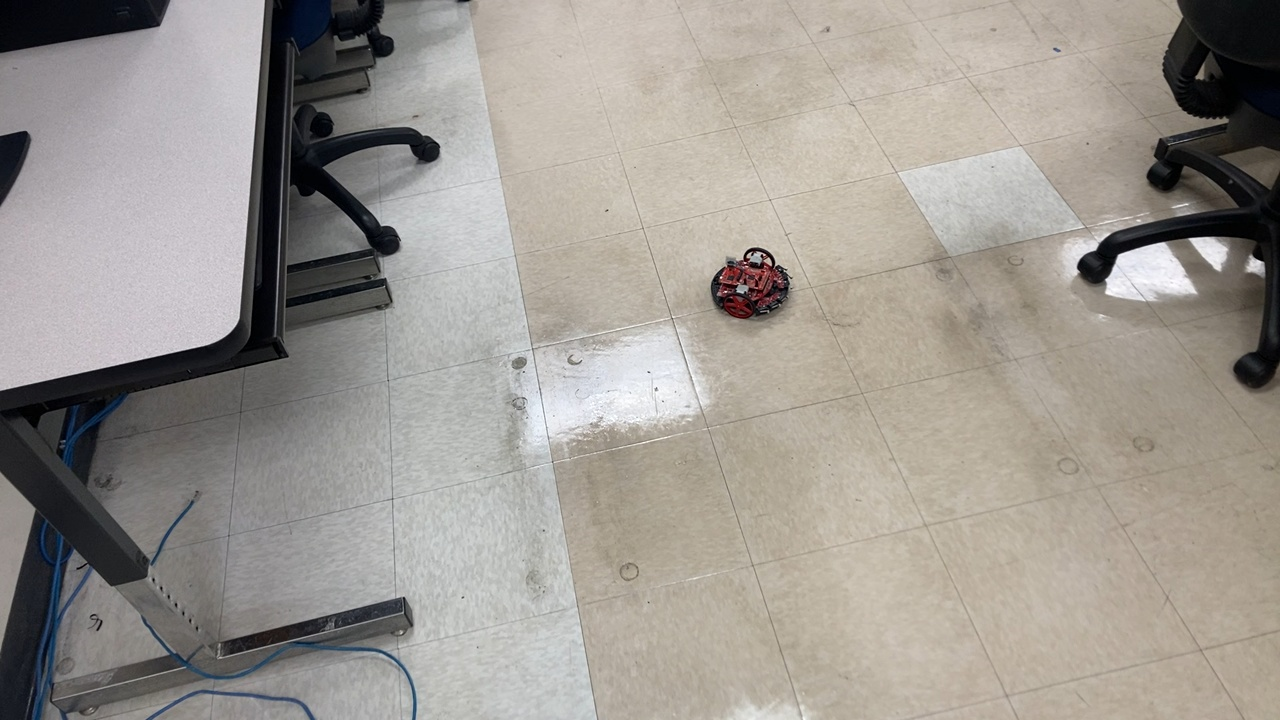robot: (709, 244, 791, 328)
